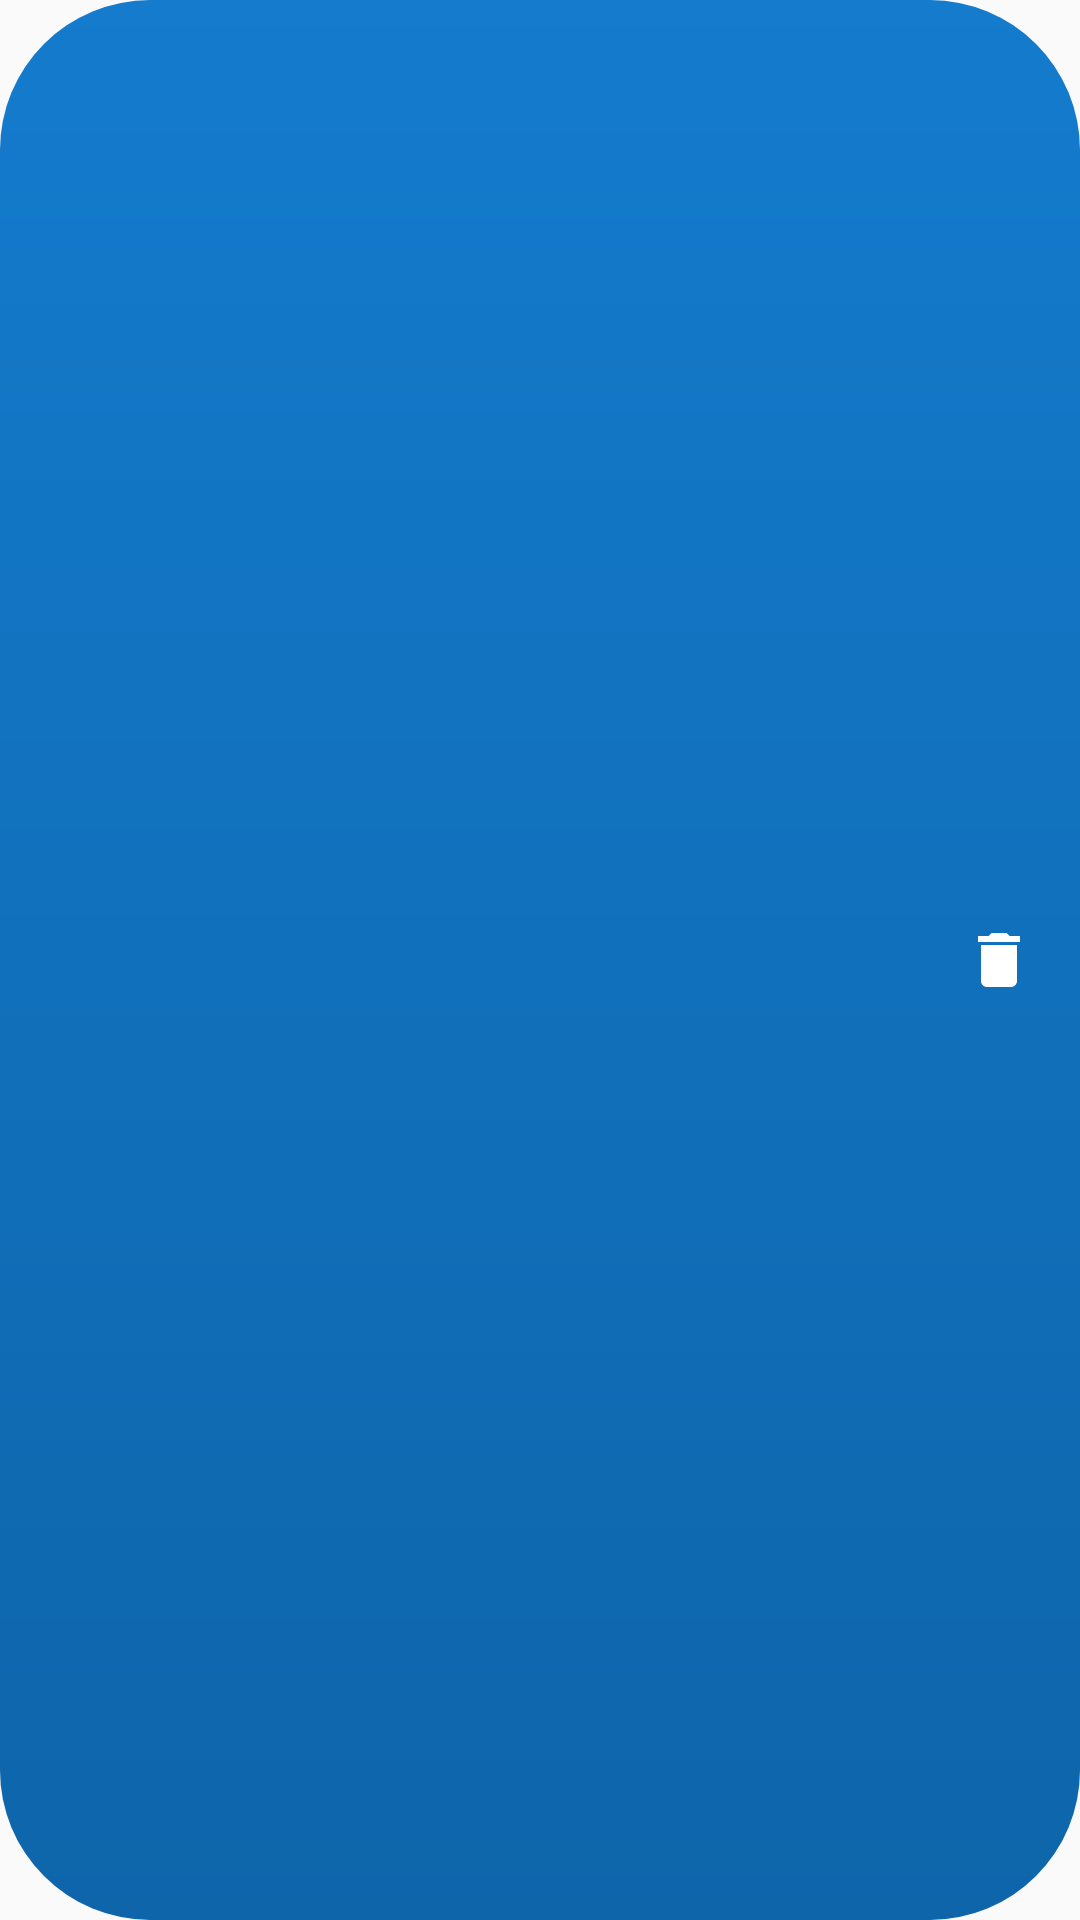

Icons on this 1080 x 1920 Android screen, each with its box as bbox(x1, y1, x2, y2):
del: bbox(978, 933, 1020, 987)
